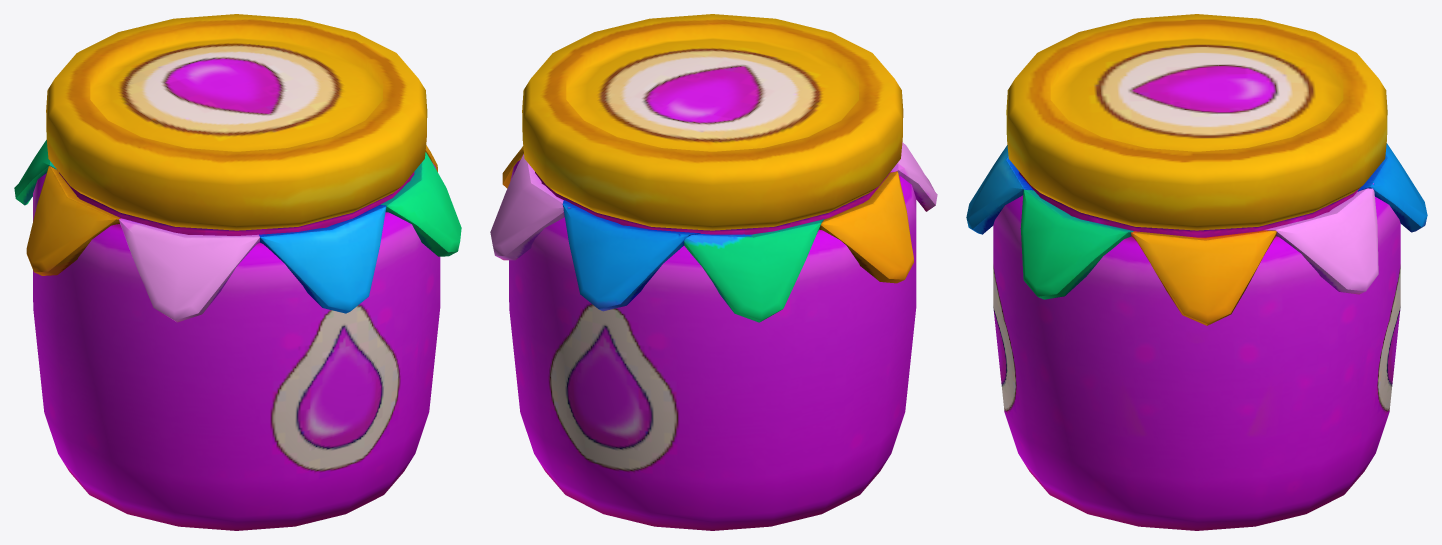
The model's file is JamJar_Pink.glb.
3 renders of one model, left to right at view 1: azimuth 30°, elevation 25°; view 2: azimuth 150°, elevation 25°; view 3: azimuth 270°, elevation 25°, orthographic.
Bounding box in the file's own units: 1.1 × 0.991 × 1.1.
Materials: 1 (1 with a texture image).
